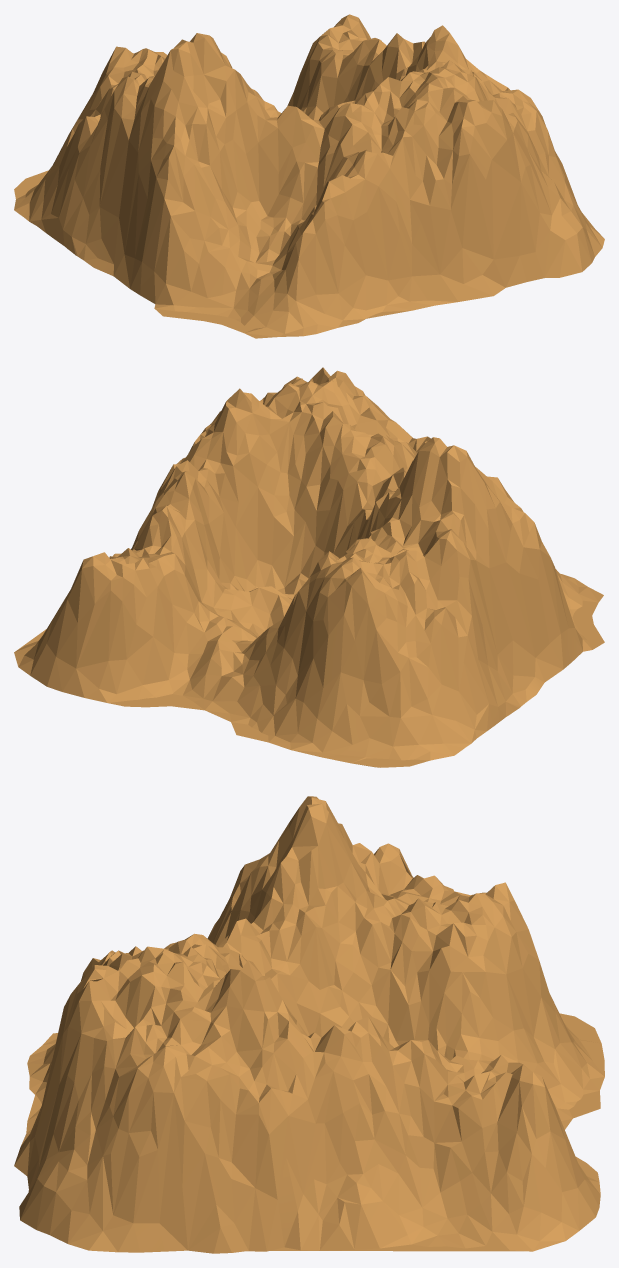
The model's file is Island2.fbx.
3 views of the same model, one above another, from view 1: azimuth 30°, elevation 25°; view 2: azimuth 150°, elevation 25°; view 3: azimuth 270°, elevation 25° (orthographic). The views are drawn at different scales.
Visible parts, largest first — view 1: Mounting_2; view 2: Mounting_2; view 3: Mounting_2.
Boxes of the visible parts, <box> form: Mounting_2: <box>14,14,604,338</box>; Mounting_2: <box>14,367,604,767</box>; Mounting_2: <box>14,796,604,1253</box>.
Bounding box in the file's own units: 1974 × 974 × 1970.
